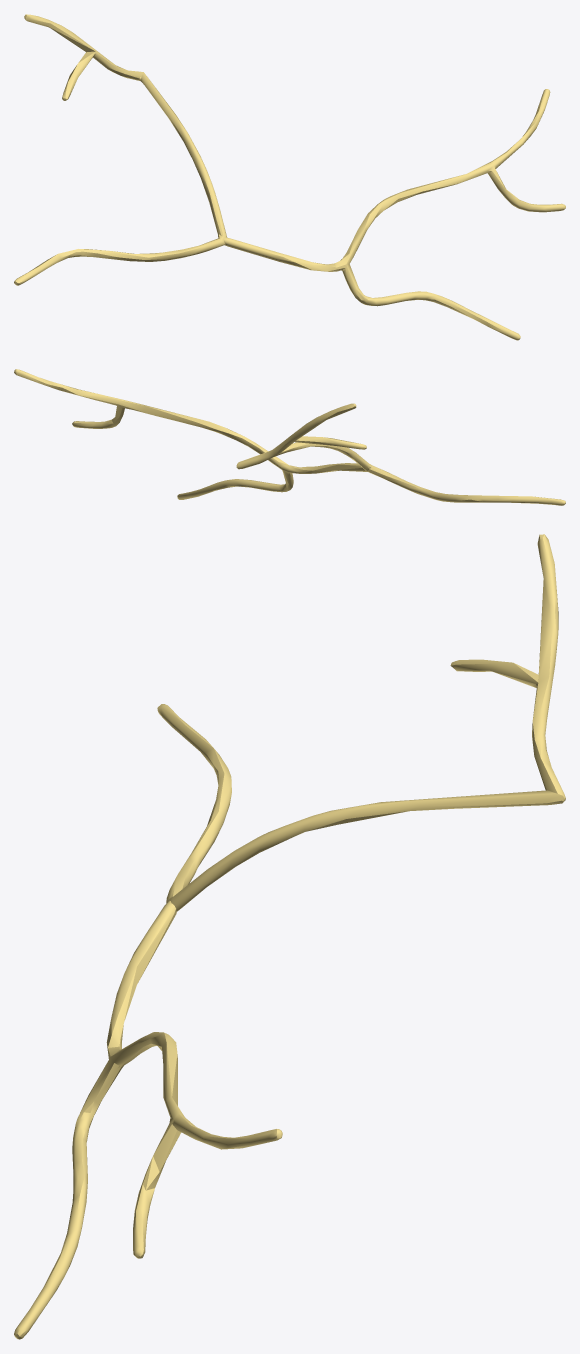
Rendered from fma8922_cx286.glb.
The picture shows the model from 3 angles, top to bottom: view 1: azimuth 30°, elevation 25°; view 2: azimuth 150°, elevation 25°; view 3: azimuth 270°, elevation 25°; orthographic projection. The views are drawn at different scales.
Visible parts, largest first — view 1: FMA8922_CX286; view 2: FMA8922_CX286; view 3: FMA8922_CX286.
Part boxes in pixels (x1=…): FMA8922_CX286: x1=14, y1=14, x2=565, y2=340; FMA8922_CX286: x1=14, y1=369, x2=565, y2=505; FMA8922_CX286: x1=14, y1=534, x2=565, y2=1339.
Size of the model in its own units: 0.0433 by 0.0217 by 0.021.
